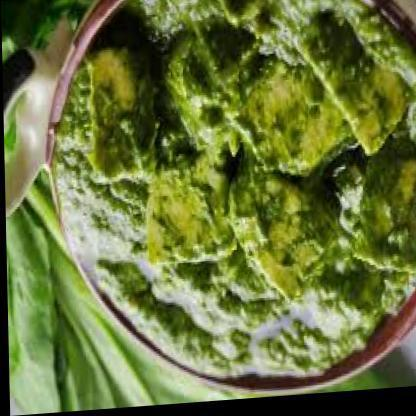palak_paneer: (47, 0, 416, 395)
